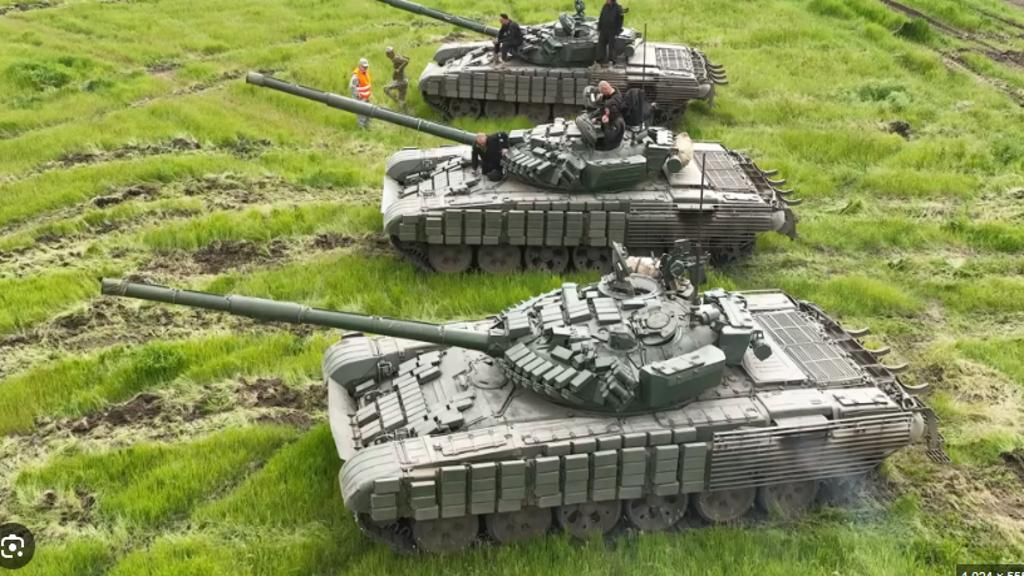TANK: (81, 250, 926, 565), (241, 70, 791, 273), (365, 1, 716, 130)
